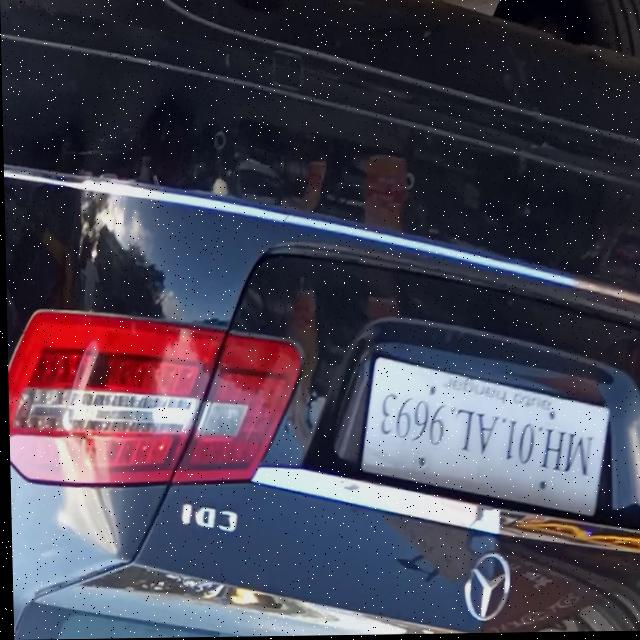plate: (357, 351, 613, 539)
